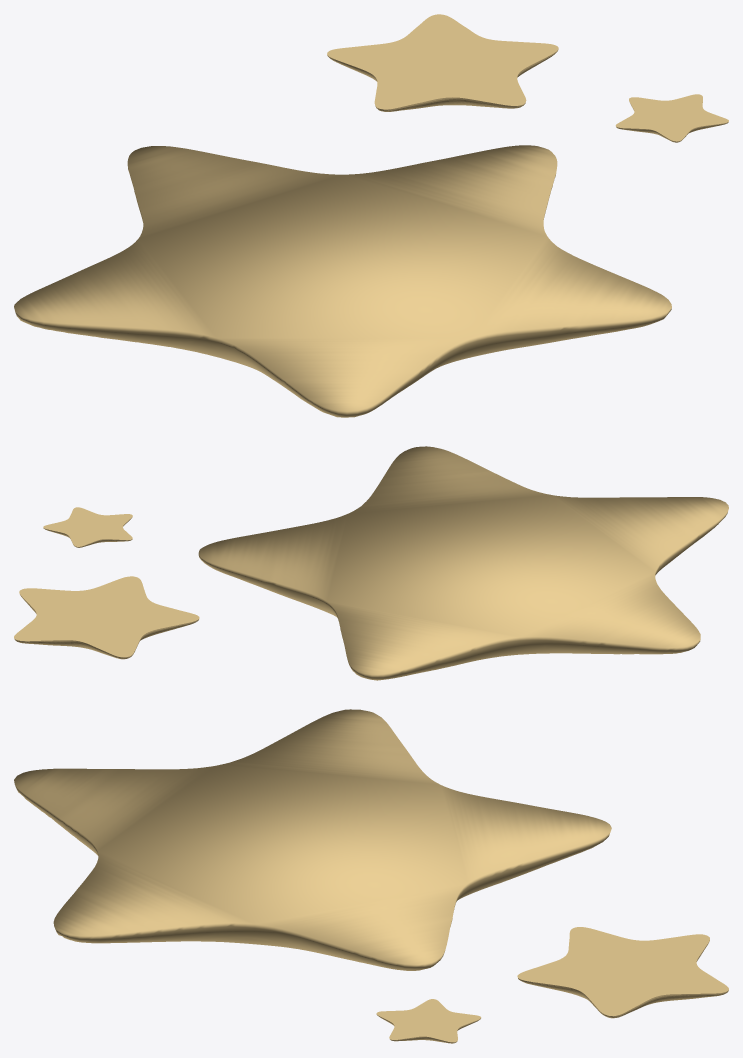
Rendered from stars_tile_back.fbx.
The picture shows the model from 3 angles, top to bottom: view 1: azimuth 30°, elevation 25°; view 2: azimuth 150°, elevation 25°; view 3: azimuth 270°, elevation 25°; orthographic projection. The views are drawn at different scales.
Visible parts, largest first — view 1: inflated_star; view 2: inflated_star; view 3: inflated_star.
Part boxes in pixels (x1,y1,x2,y2): inflated_star: [14, 14, 728, 417]; inflated_star: [14, 446, 728, 680]; inflated_star: [14, 709, 728, 1043].
Bounding box in the file's own units: 876 × 71.43 × 796.
